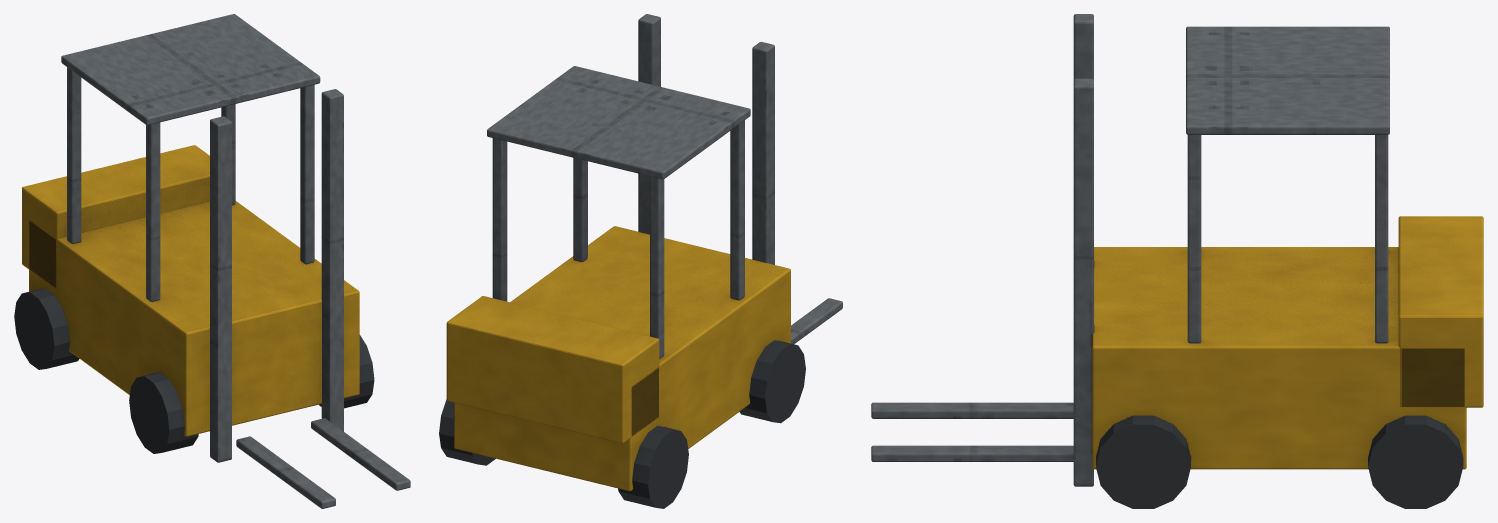
File: base_forklift.glb
3 views of the same model, side by side, from view 1: azimuth 30°, elevation 25°; view 2: azimuth 150°, elevation 25°; view 3: azimuth 270°, elevation 25° (orthographic). The views are drawn at different scales.
Visible parts, largest first — view 1: base_forklift; view 2: base_forklift; view 3: base_forklift.
Part boxes in pixels (x1,y1,x2,y2): base_forklift: (14,14,410,508); base_forklift: (439,14,842,508); base_forklift: (871,14,1483,508).
Bounding box in the file's own units: 1.65 × 2.6 × 3.6.
Materials: 3 (3 with a texture image).
